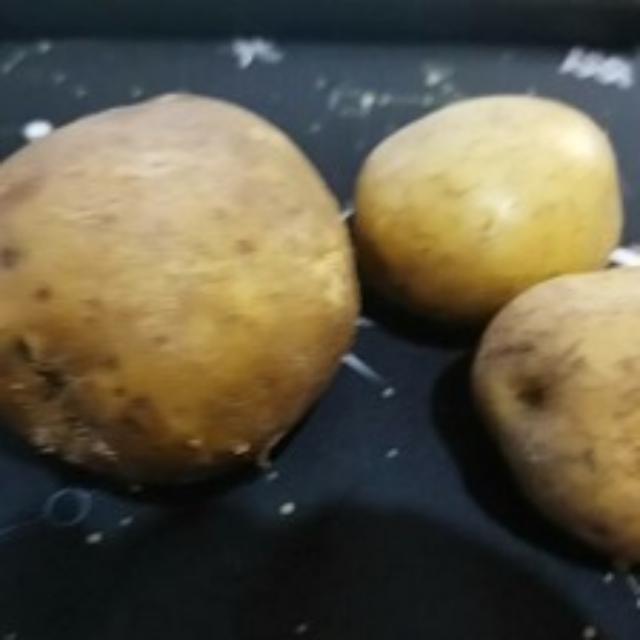Damaged potato: (6, 90, 370, 496), (466, 258, 638, 572)
Potato: (348, 86, 628, 320)
